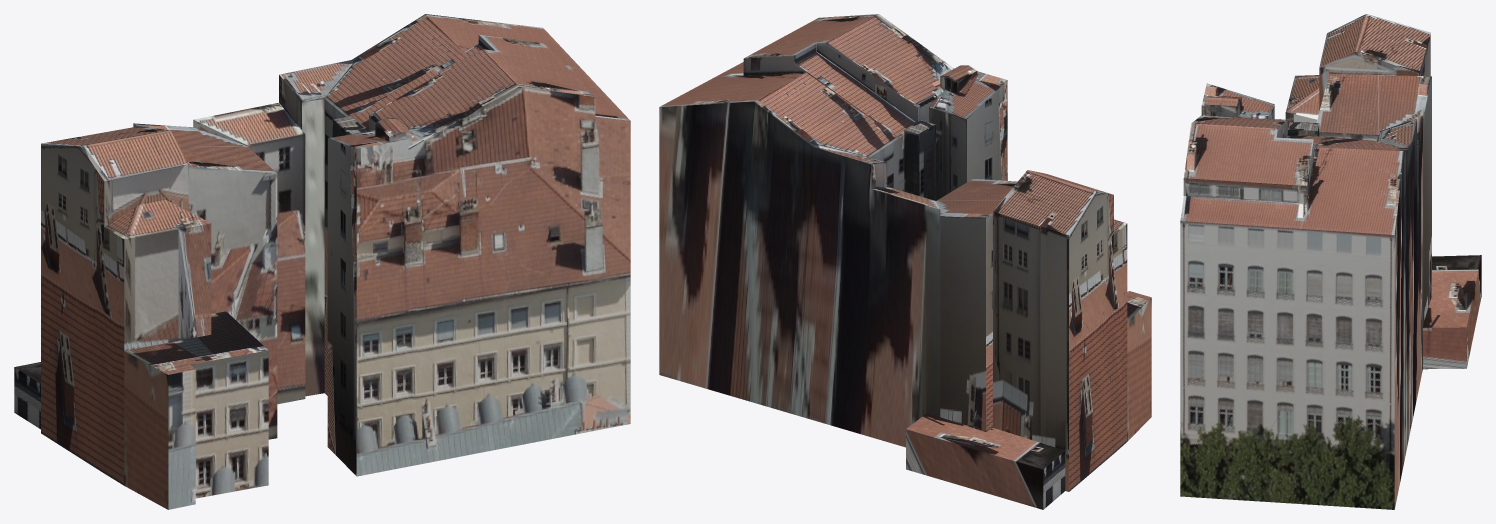
3 views of the same model, side by side, from view 1: azimuth 30°, elevation 25°; view 2: azimuth 150°, elevation 25°; view 3: azimuth 270°, elevation 25° (orthographic). The views are drawn at different scales.
Parts seen in each view (by area): view 1: Z_UP; view 2: Z_UP; view 3: Z_UP.
Part boxes in pixels (x1,y1,x2,y2): Z_UP: [14, 14, 630, 509]; Z_UP: [659, 14, 1151, 509]; Z_UP: [1180, 14, 1481, 509].
Bounding box in the file's own units: 40.55 × 28.81 × 24.12.
2 materials, 1 textured.
